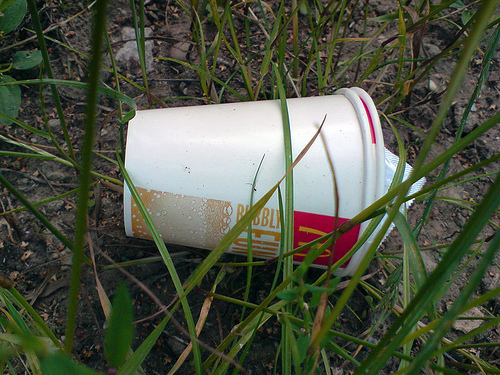litter: (124, 86, 427, 275)
